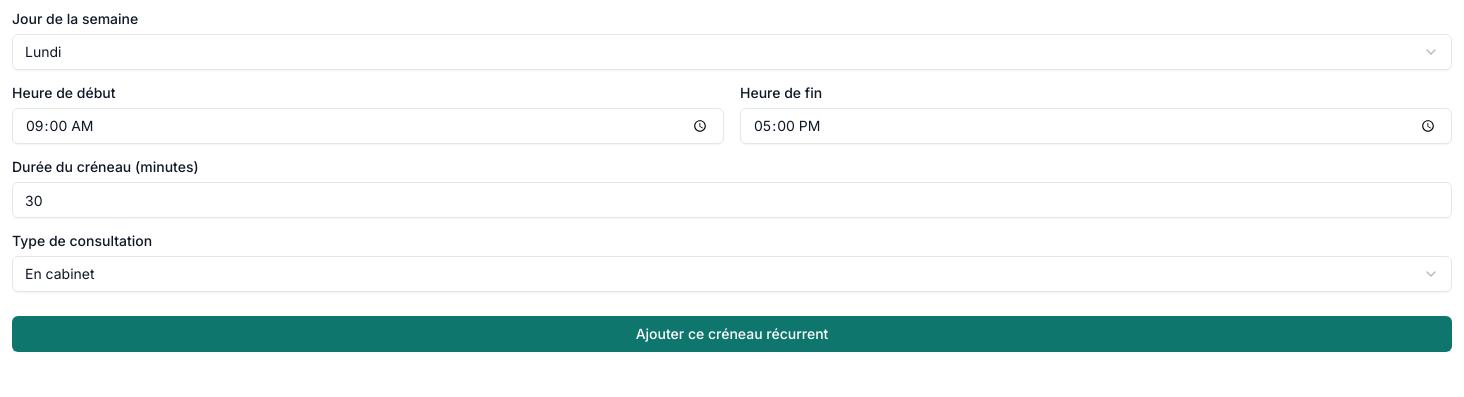
Test: AvailabilityRuleForm › shows a client-side error when endTime is before startTime
Replace the text in the time field labelled "Heure de fin" with "0800": (1096, 126) [740,108,1452,144]
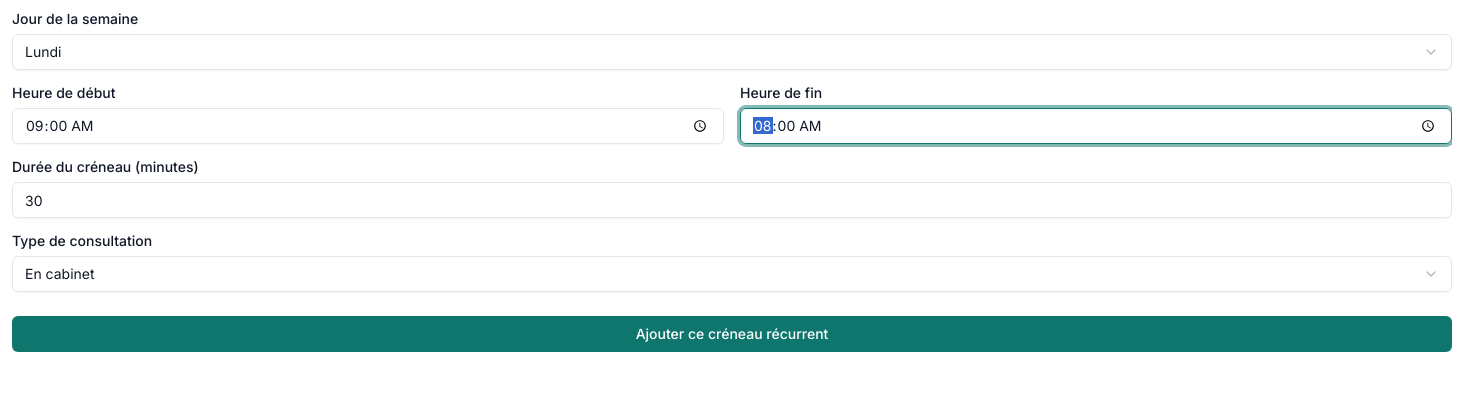
Click the button "Ajouter ce créneau récurrent": (732, 334) [12,316,1452,352]
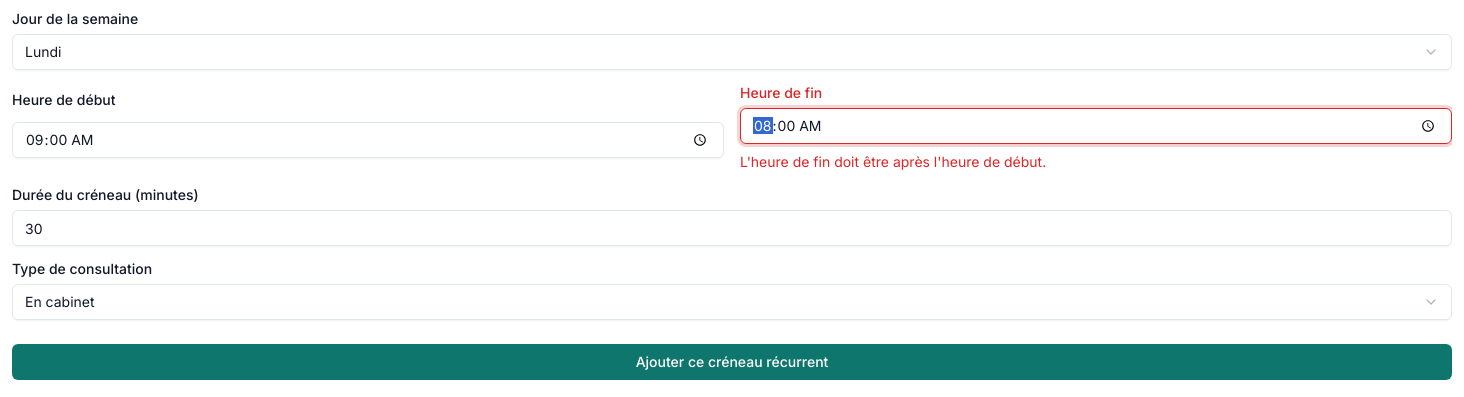
Now the text "L'heure de fin doit être après l'heure de début." is shown, box [740,153,1046,170]
